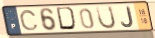0: (78, 7, 96, 29)
6: (39, 7, 58, 33)
C: (19, 9, 40, 32)
D: (55, 6, 79, 32)
J: (121, 5, 135, 29)
U: (95, 5, 117, 30)
